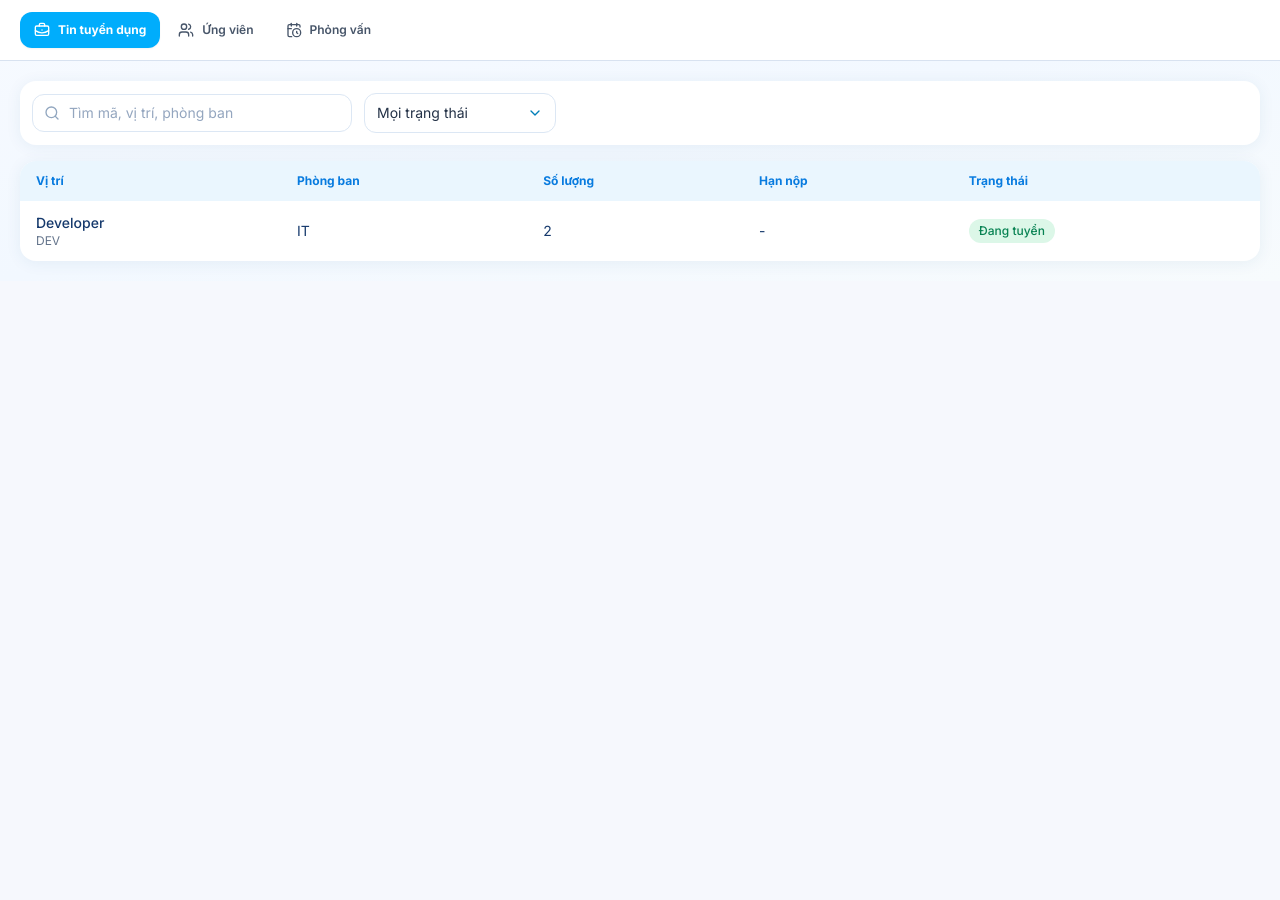
it: RecruitmentTab › does not expose applicant attachment mutations to read-only users
Expected: the text "Developer" is shown, [36,214,104,231]
Click the button "Ứng viên": (216, 30) [164,12,268,48]
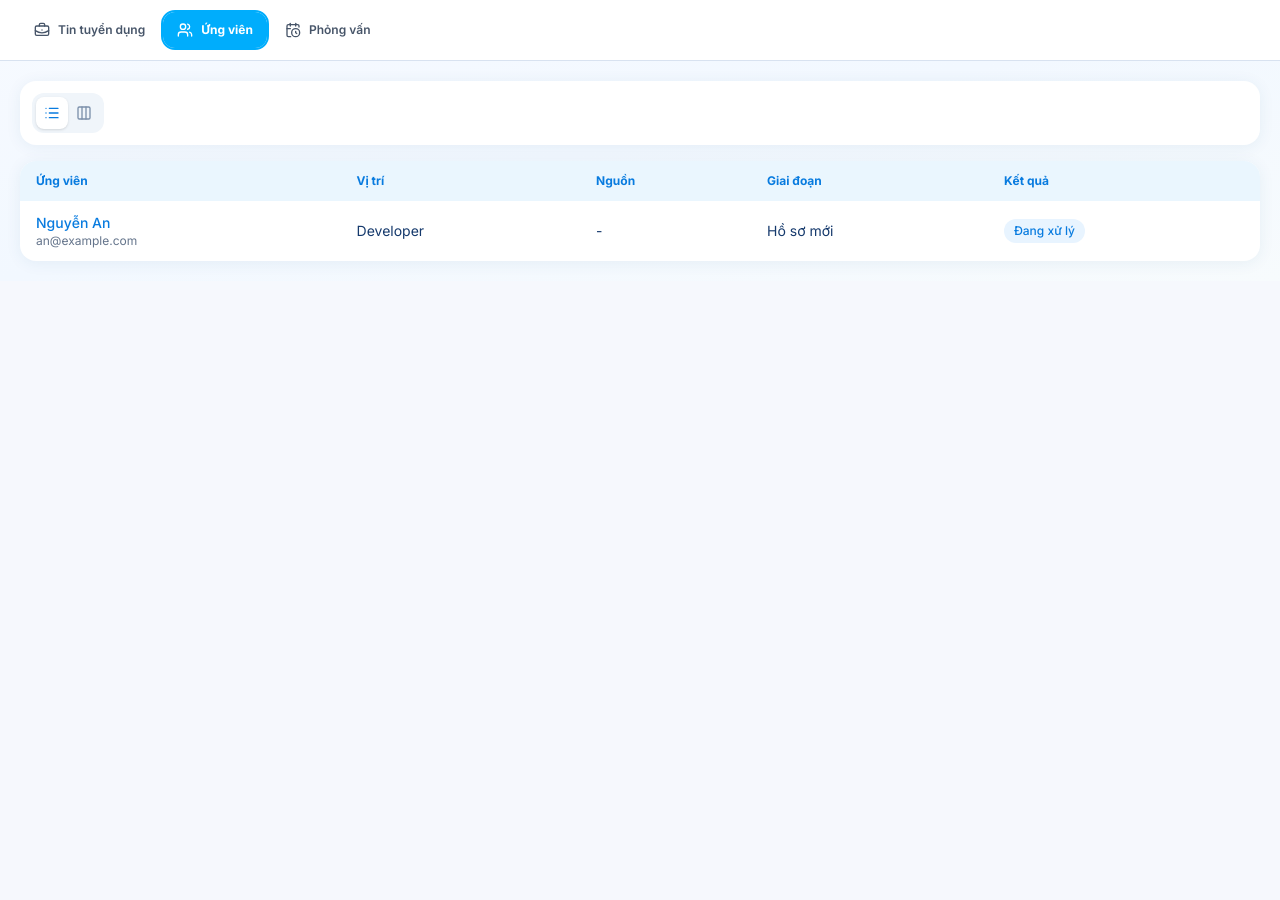
Click the button "Nguyễn An": (73, 223) [36,213,110,233]
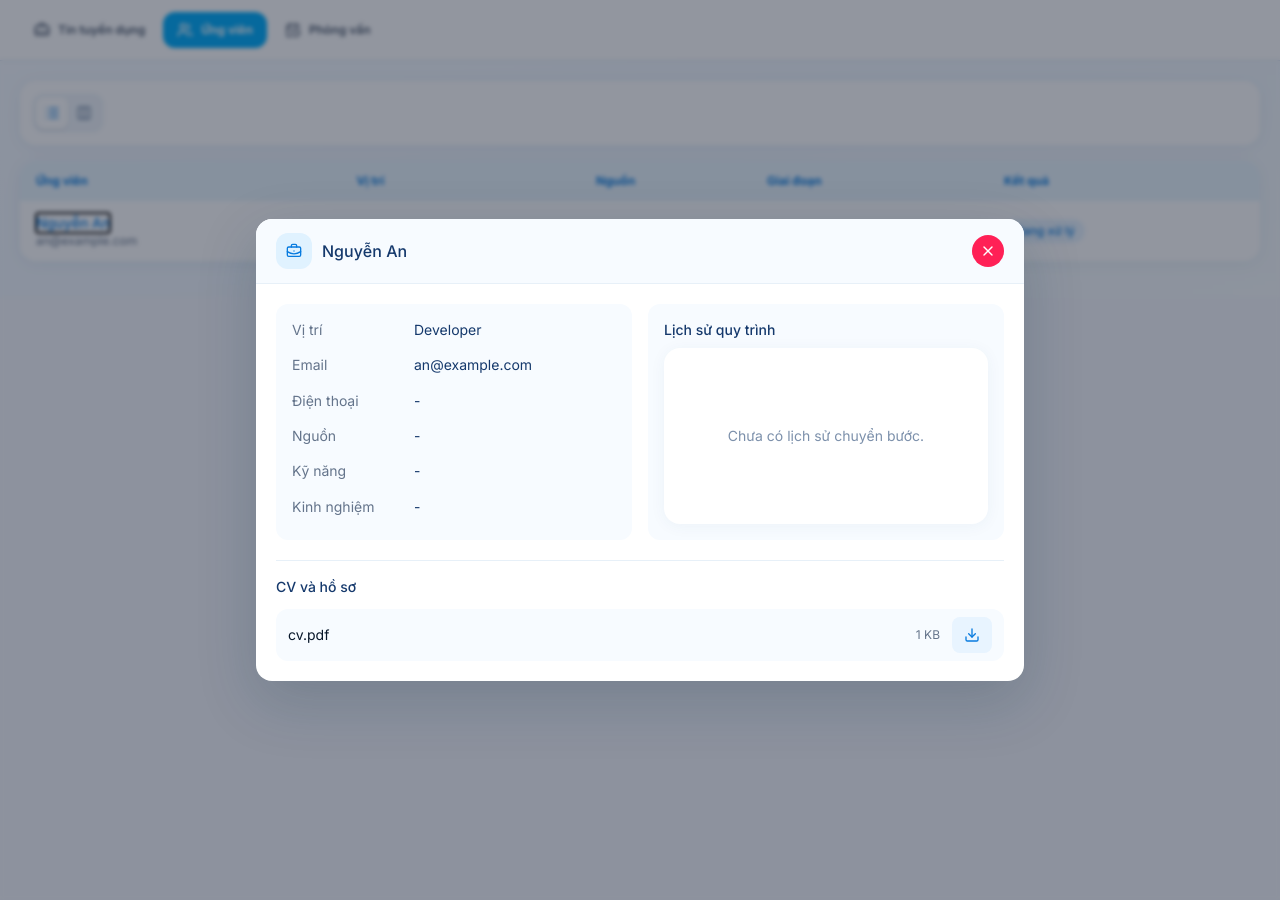
Expected: the dialog is shown
Expected: the button named "tải xuống" is shown, [952,617,992,653]
